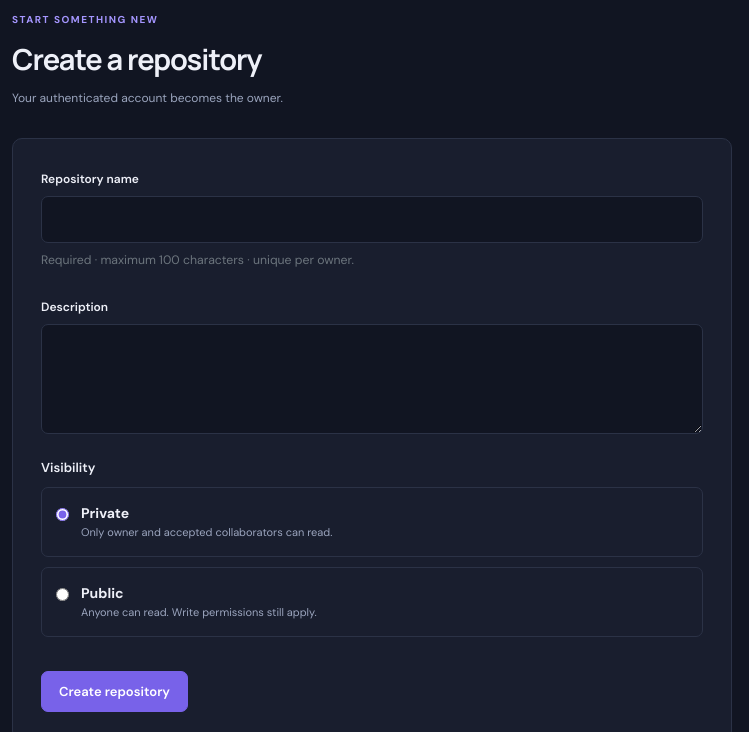
repository mutations › preserves form and shows conflict on failed create
Type "Alpha" into the field labelled "Repository name" at (372,220), box [41, 196, 703, 243]
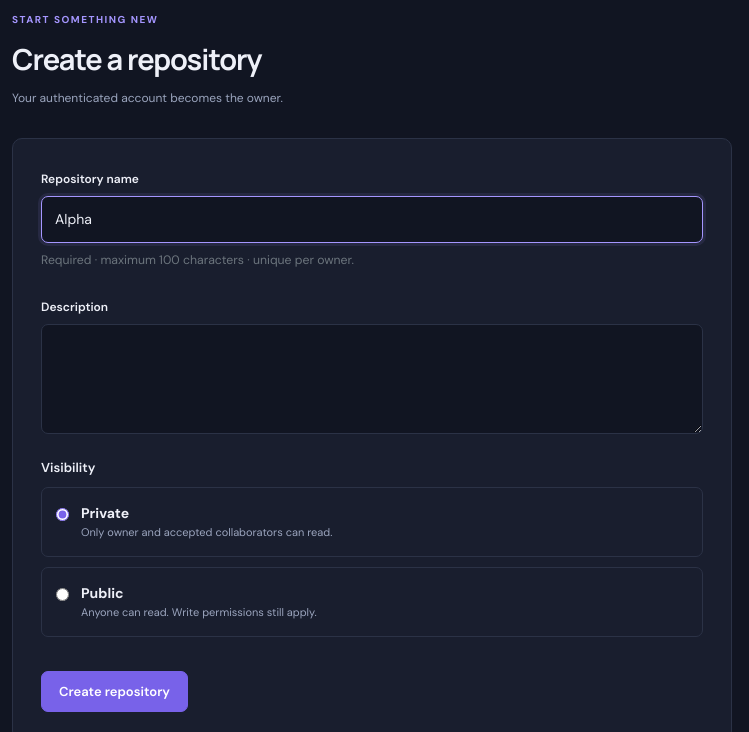
Click the button "Create repository" at (114,691), box [41, 671, 188, 712]
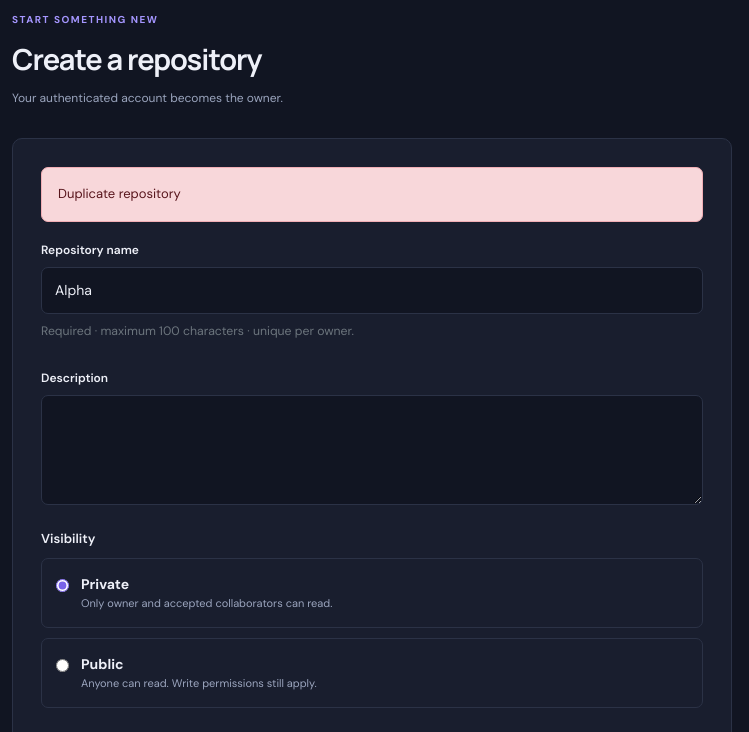
Result: the message shows "Duplicate" at [58, 185, 181, 202]
